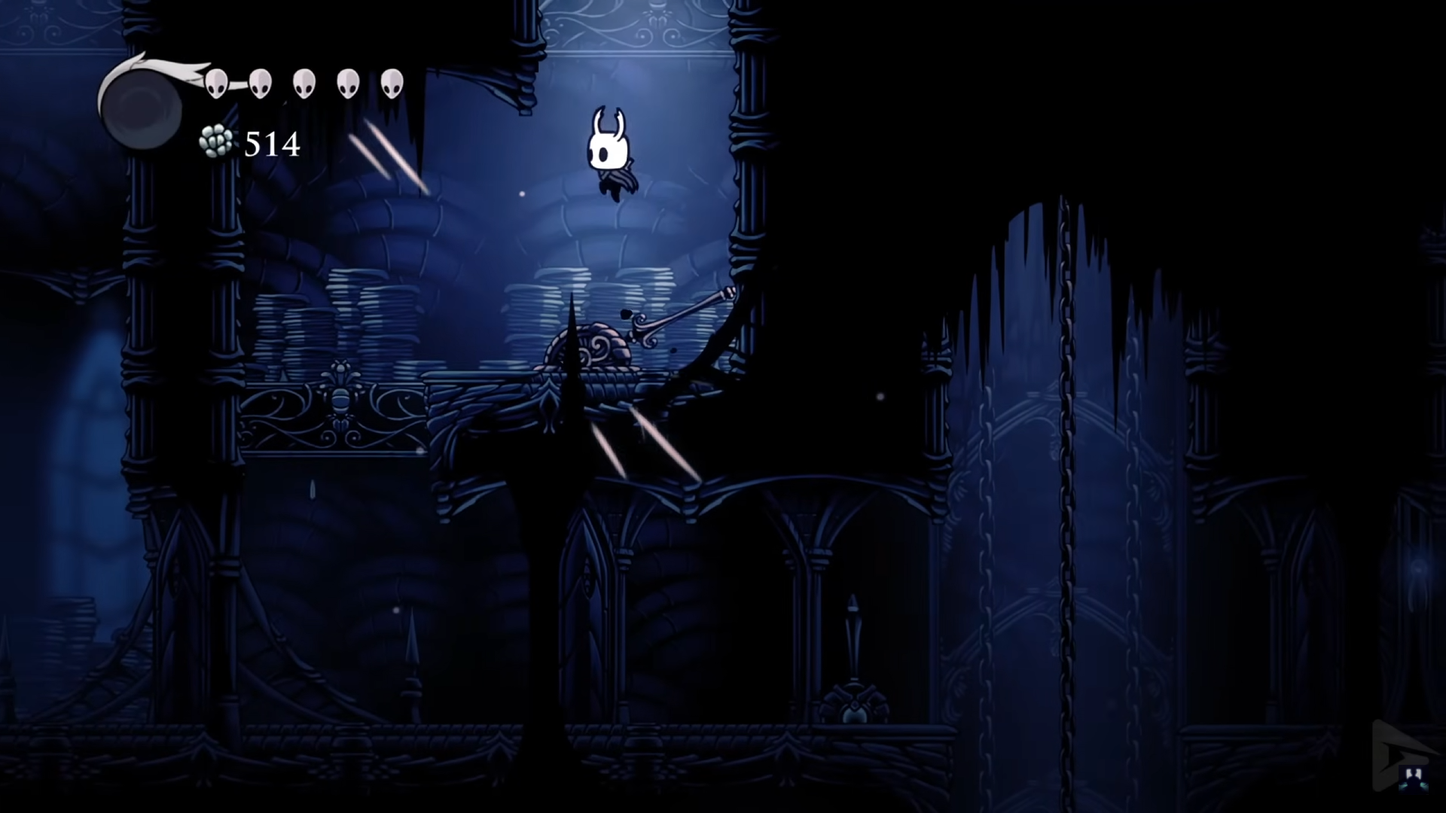HK: (578, 102, 642, 206)
